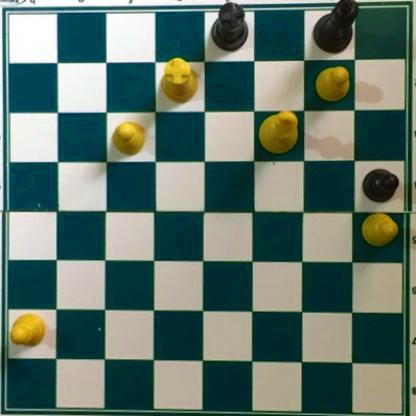black-king: (310, 1, 358, 57)
black-pawn: (360, 166, 400, 203)
black-rook: (211, 1, 250, 54)
white-king: (256, 109, 300, 157)
white-pawn: (359, 211, 399, 249), (8, 312, 47, 350), (314, 64, 350, 103), (110, 120, 147, 156)
white-rook: (158, 57, 199, 105)
